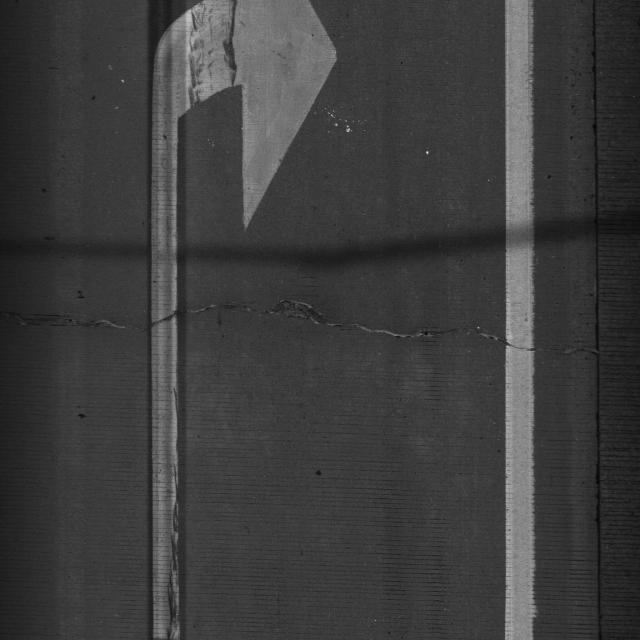right: (51, 1, 543, 635)
